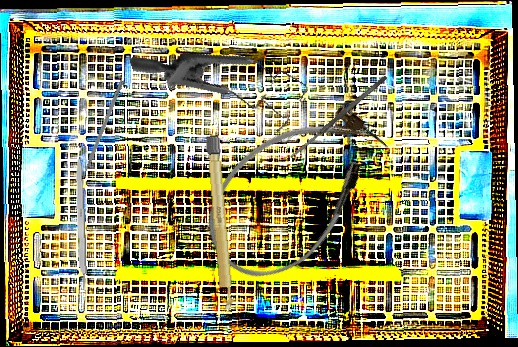Cannula: (181, 79, 408, 303)
Hook Surgical: (78, 79, 124, 184)
Scalpel Handle: (205, 133, 235, 315), (73, 156, 88, 291)
Spatula Surgical: (288, 74, 389, 160)
Speculum: (128, 9, 318, 169)
